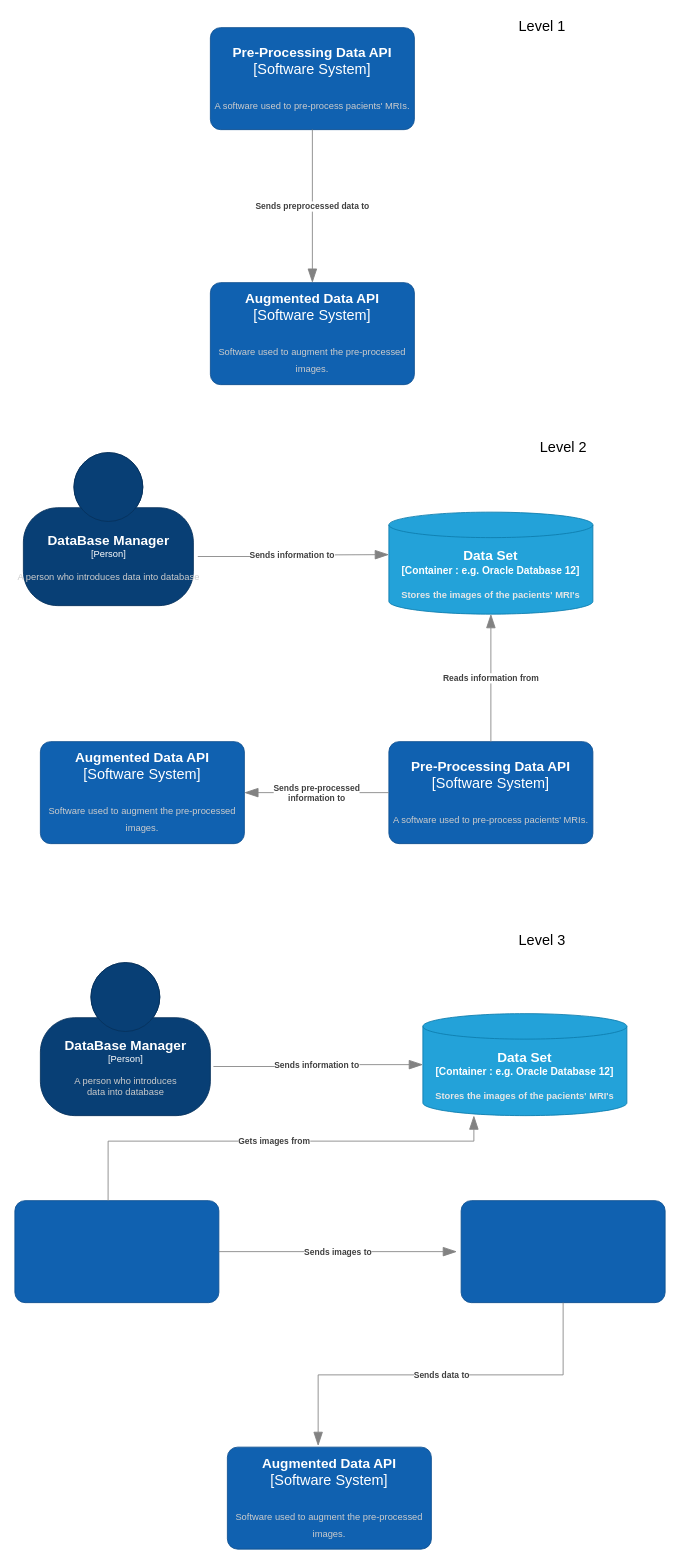
This 680x1564 diagram has some shape labels left out. Each missing label, with the centre of its shape:
"Image Retrieval [Software System] Takes the images from the database" goes at point (116, 1251).
"Pre-procesing data API [Software System] Algorithms for MRI pre-processing" goes at point (562, 1251).
